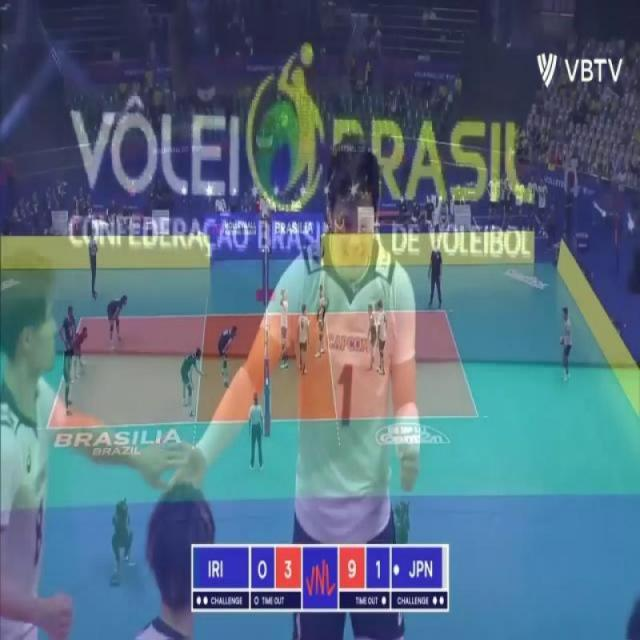volleyball: (560, 338, 564, 346)
